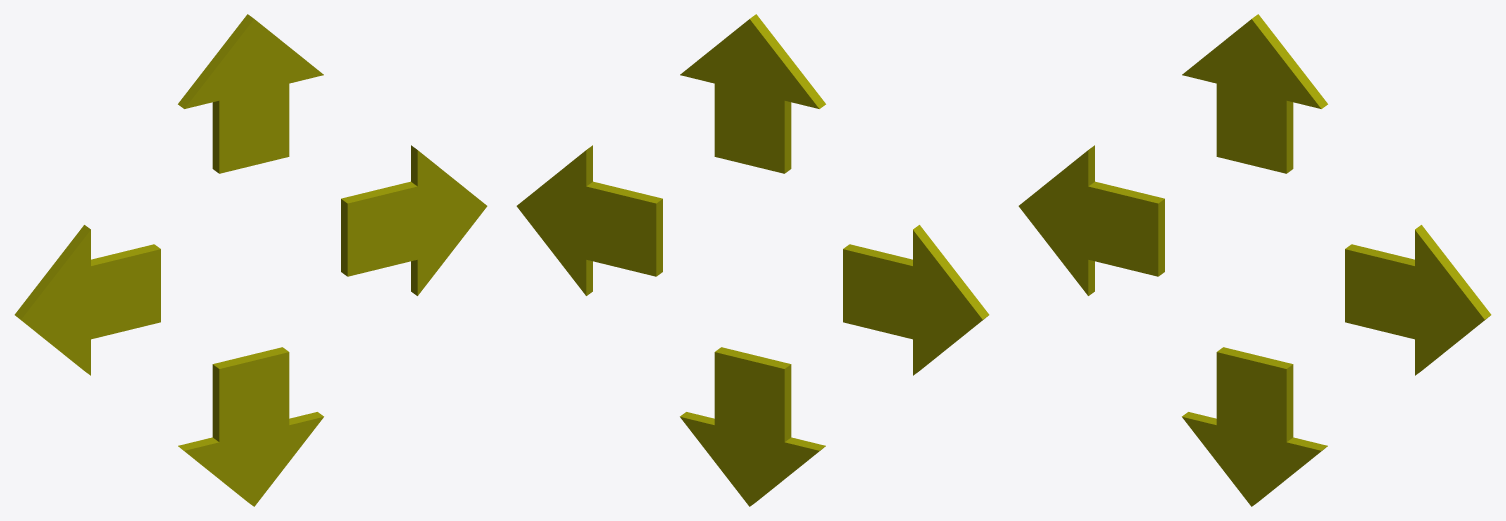
File: movecursor.obj
3 renders of one model, left to right at view 1: azimuth 30°, elevation 25°; view 2: azimuth 150°, elevation 25°; view 3: azimuth 330°, elevation 25°, orthographic.
Parts seen in each view (by area): view 1: Cube; view 2: Cube; view 3: Cube.
Part boxes in pixels (<box>): Cube: <box>14,14,487,506</box>; Cube: <box>516,14,989,506</box>; Cube: <box>1018,14,1491,506</box>.
Bounding box in the file's own units: 4 × 4 × 0.1.
